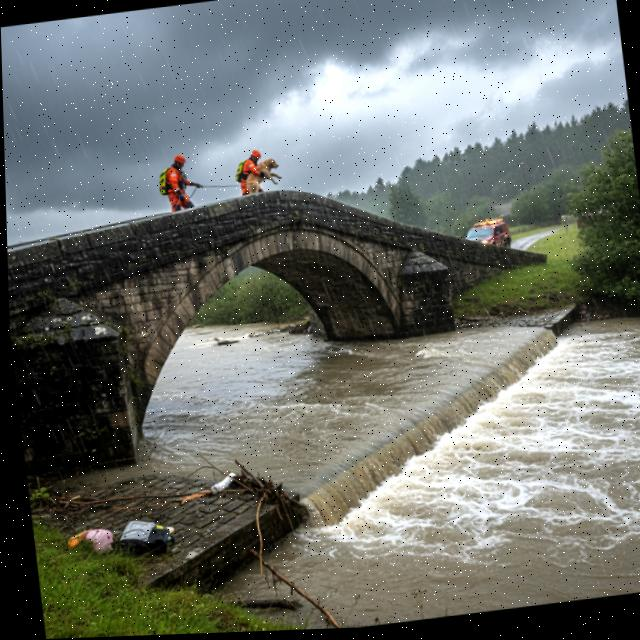dog: (239, 154, 288, 197)
rescuer: (151, 150, 206, 216), (231, 147, 266, 196)
